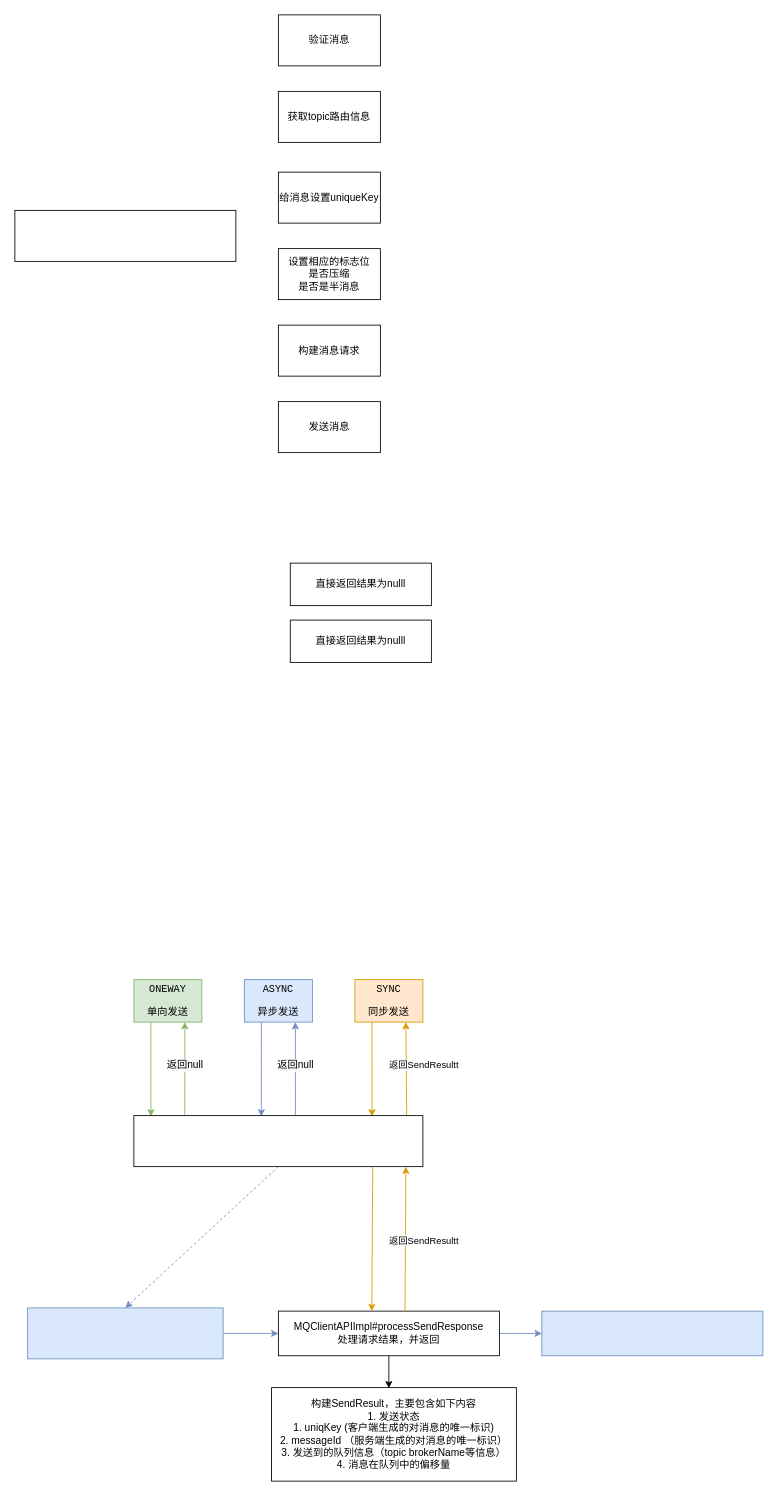
This 778x1496 diagram has some shape labels left out. The box of each missing label's shape, as (x1, y1, x2, y2) in pixels:
DefaultMQProducerImpl#sendDefaultImpl 消息发送: (14, 210, 236, 261)
NettyRemotingClient 向broker发送SEND_REPLY_MESSAGE_V2类型的消息: (133, 1115, 423, 1167)
回调SendCallback#onSuccess 传入SendResult: (541, 1310, 763, 1356)
异步发送收到响应后 调用InvokeCallback接口实现类: (27, 1307, 223, 1359)
